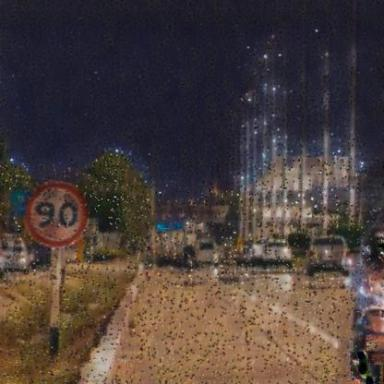Speed_limit_90: (25, 184, 90, 245)
